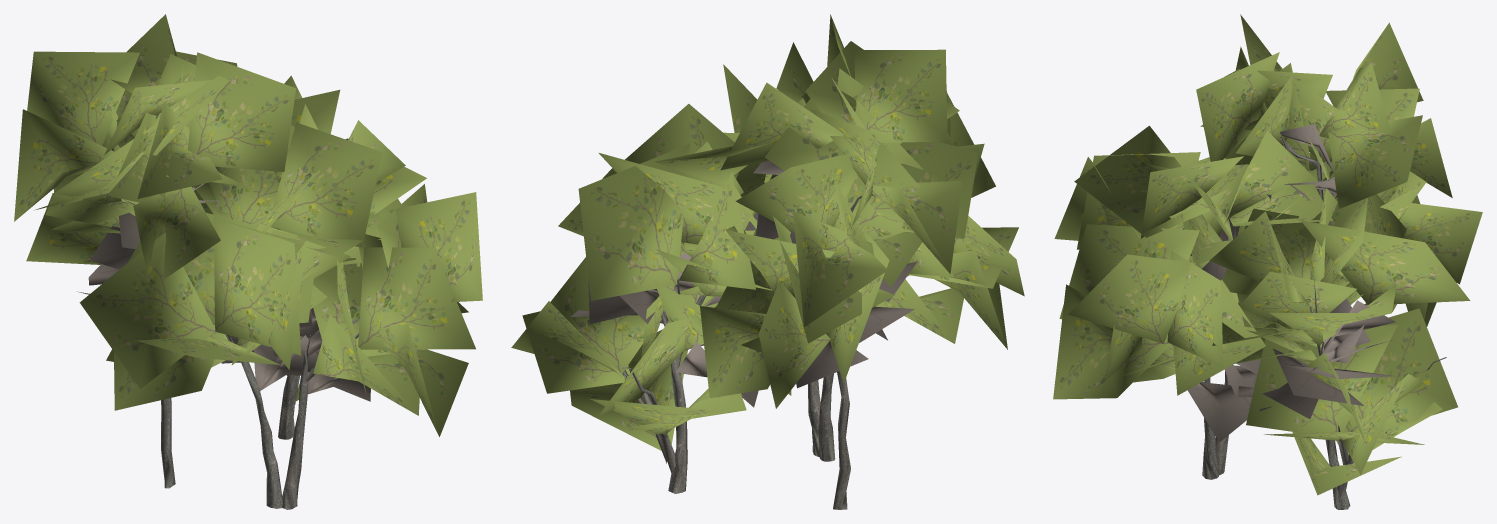
File: sm_BushGroup_01_01.fbx
3 views of the same model, side by side, from view 1: azimuth 30°, elevation 25°; view 2: azimuth 150°, elevation 25°; view 3: azimuth 270°, elevation 25° (orthographic). The views are drawn at different scales.
Parts seen in each view (by area): view 1: sm_BushGroup_01_01_LOD0; view 2: sm_BushGroup_01_01_LOD0; view 3: sm_BushGroup_01_01_LOD0.
Boxes of the visible parts, x1,y1,x2,y2 form: sm_BushGroup_01_01_LOD0: (14, 14, 482, 509); sm_BushGroup_01_01_LOD0: (511, 14, 1024, 509); sm_BushGroup_01_01_LOD0: (1053, 14, 1482, 509).
Bounding box in the file's own units: 221 × 214 × 220.
